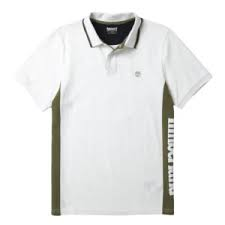C_polo shirt: (19, 19, 210, 217)
